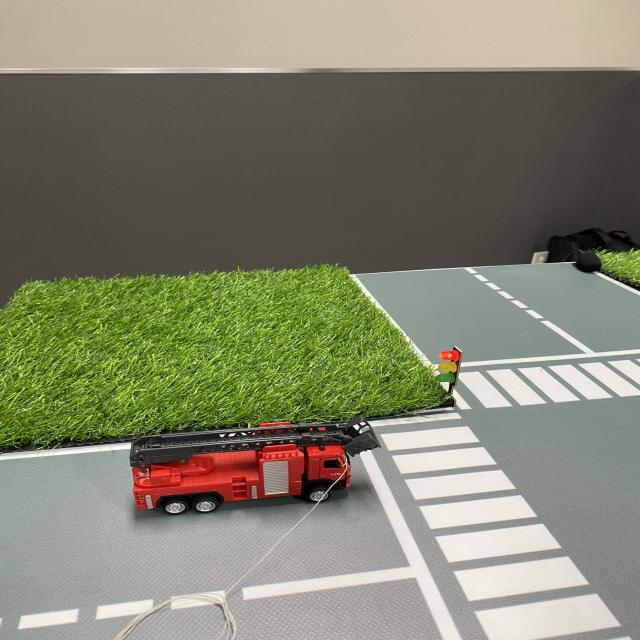Fire Truck: (127, 410, 386, 520)
